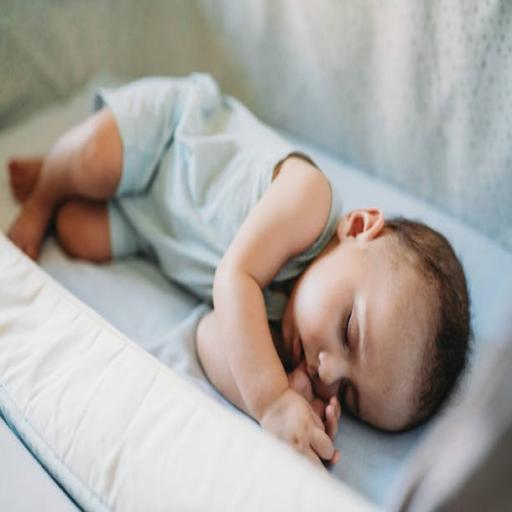baby: (8, 75, 469, 464)
crib: (0, 0, 511, 510)
